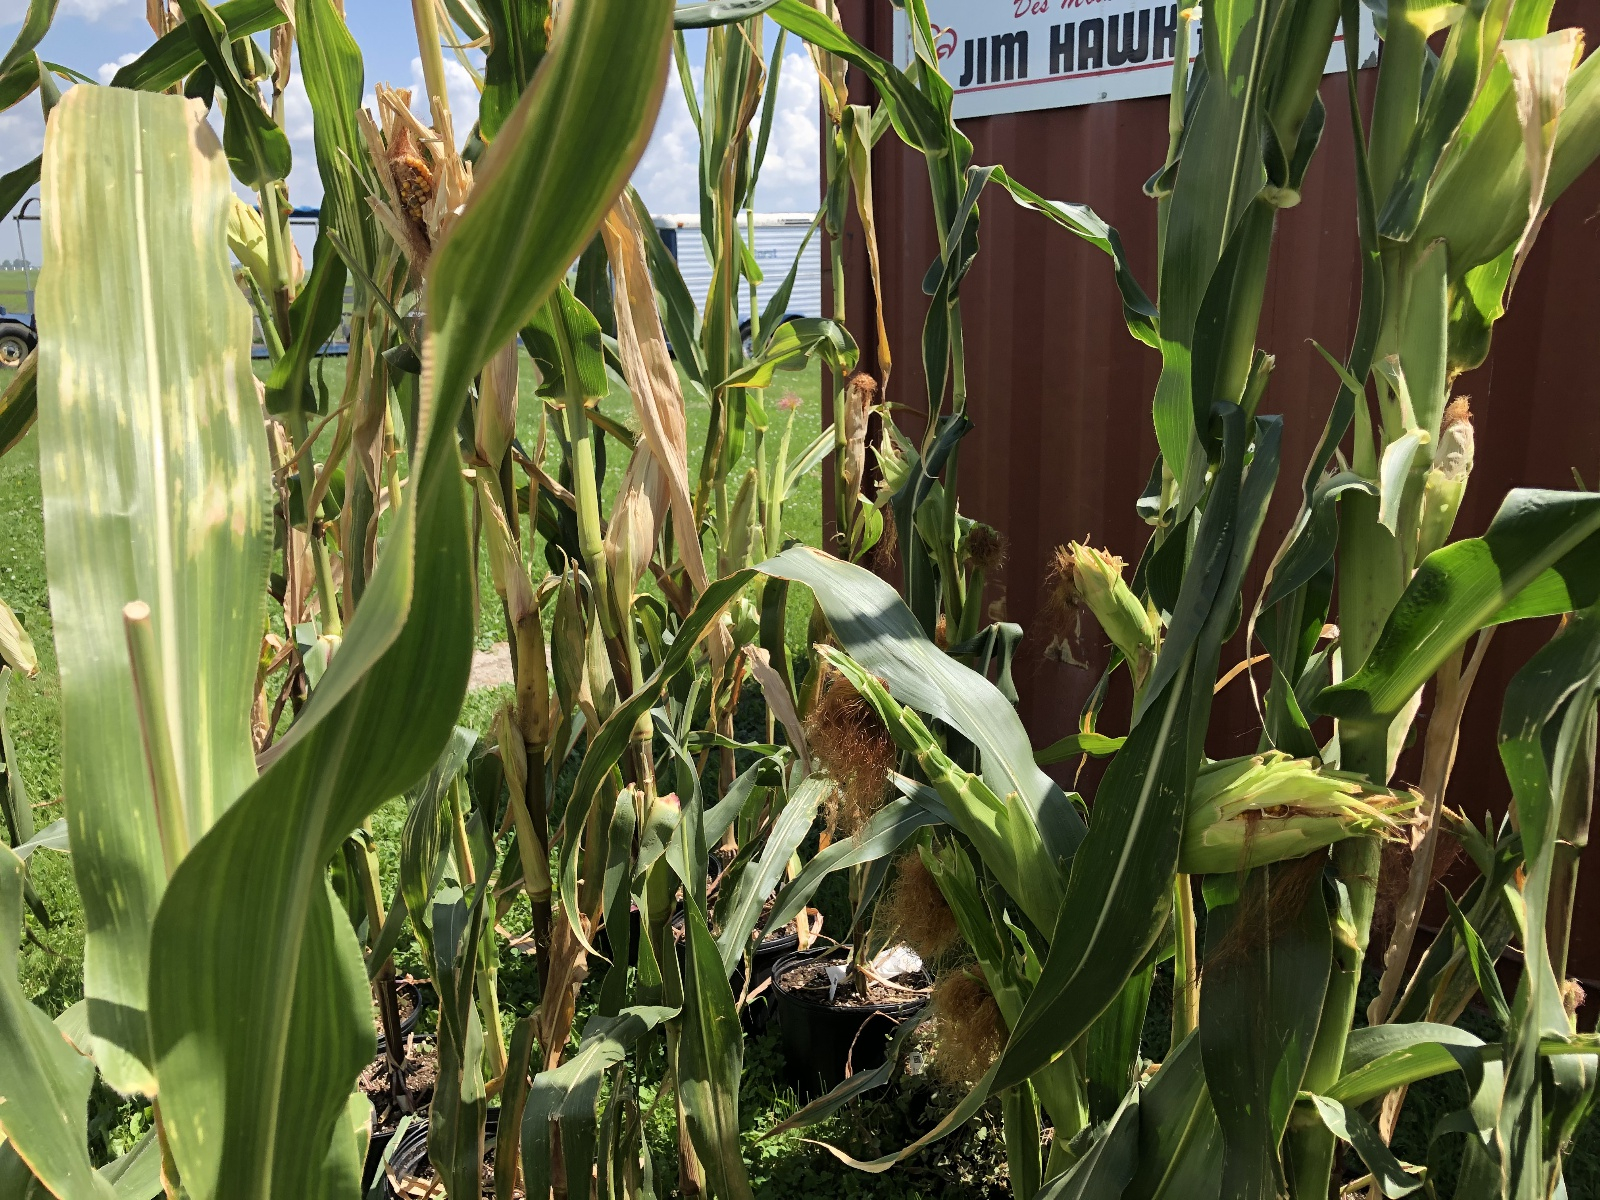ear: (1426, 40, 1594, 274), (1179, 755, 1385, 867), (1405, 389, 1493, 560), (603, 396, 682, 577), (1042, 538, 1157, 661), (382, 135, 456, 250), (883, 426, 947, 550), (721, 463, 767, 579), (220, 192, 273, 289), (842, 366, 878, 500)
